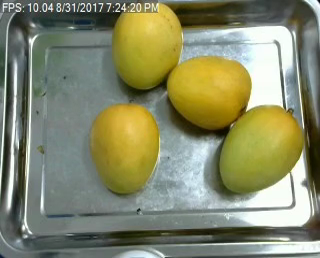Mango: (219, 103, 301, 191), (87, 104, 159, 194), (166, 56, 251, 130), (110, 3, 182, 88)
